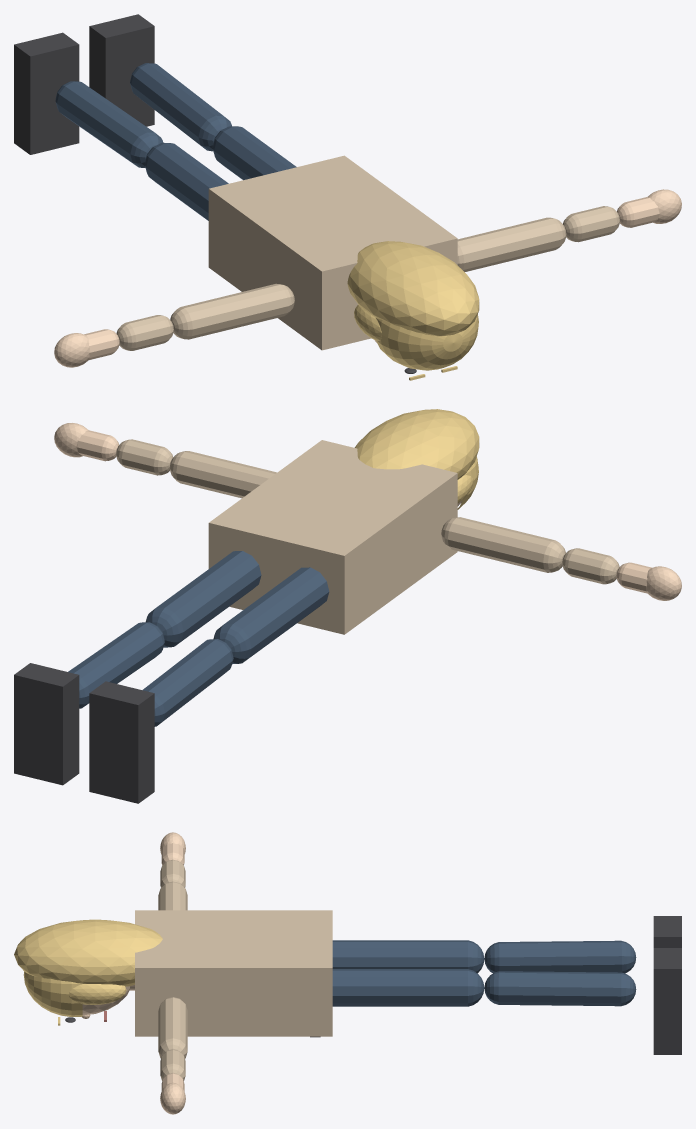
File: CHAR_AVATAR_VARIANT_002.glb
The picture shows the model from 3 angles, top to bottom: view 1: azimuth 30°, elevation 25°; view 2: azimuth 150°, elevation 25°; view 3: azimuth 270°, elevation 25°; orthographic projection. The views are drawn at different scales.
Visible parts, largest first — view 1: CHAR_AVATAR_VARIANT_002_torso_jacket, CHAR_AVATAR_VARIANT_002_back_hair, CHAR_AVATAR_VARIANT_002_shoe_L, CHAR_AVATAR_VARIANT_002_shoe_R, CHAR_AVATAR_VARIANT_002_shin_L, CHAR_AVATAR_VARIANT_002_upper_arm_L, CHAR_AVATAR_VARIANT_002_shin_R, CHAR_AVATAR_VARIANT_002_upper_arm_R, CHAR_AVATAR_VARIANT_002_hair_cap, CHAR_AVATAR_VARIANT_002_thigh_L, CHAR_AVATAR_VARIANT_002_thigh_R, CHAR_AVATAR_VARIANT_002_forearm_L (+6 smaller); view 2: CHAR_AVATAR_VARIANT_002_torso_jacket, CHAR_AVATAR_VARIANT_002_shoe_L, CHAR_AVATAR_VARIANT_002_shoe_R, CHAR_AVATAR_VARIANT_002_back_hair, CHAR_AVATAR_VARIANT_002_thigh_R, CHAR_AVATAR_VARIANT_002_thigh_L, CHAR_AVATAR_VARIANT_002_upper_arm_L, CHAR_AVATAR_VARIANT_002_shin_L, CHAR_AVATAR_VARIANT_002_shin_R, CHAR_AVATAR_VARIANT_002_upper_arm_R, CHAR_AVATAR_VARIANT_002_forearm_L, CHAR_AVATAR_VARIANT_002_forearm_R (+4 smaller); view 3: CHAR_AVATAR_VARIANT_002_torso_jacket, CHAR_AVATAR_VARIANT_002_back_hair, CHAR_AVATAR_VARIANT_002_thigh_R, CHAR_AVATAR_VARIANT_002_shin_R, CHAR_AVATAR_VARIANT_002_shin_L, CHAR_AVATAR_VARIANT_002_thigh_L, CHAR_AVATAR_VARIANT_002_shoe_R, CHAR_AVATAR_VARIANT_002_hair_cap, CHAR_AVATAR_VARIANT_002_upper_arm_R, CHAR_AVATAR_VARIANT_002_hair_side_R, CHAR_AVATAR_VARIANT_002_shoe_L, CHAR_AVATAR_VARIANT_002_upper_arm_L (+3 smaller).
Boxes of the visible parts, x1=… form: CHAR_AVATAR_VARIANT_002_torso_jacket: x1=208, y1=155, x2=457, y2=350; CHAR_AVATAR_VARIANT_002_back_hair: x1=347, y1=241, x2=479, y2=336; CHAR_AVATAR_VARIANT_002_shoe_L: x1=14, y1=32, x2=79, y2=154; CHAR_AVATAR_VARIANT_002_shoe_R: x1=89, y1=14, x2=154, y2=126; CHAR_AVATAR_VARIANT_002_shin_L: x1=55, y1=81, x2=163, y2=167; CHAR_AVATAR_VARIANT_002_upper_arm_L: x1=170, y1=283, x2=294, y2=339; CHAR_AVATAR_VARIANT_002_shin_R: x1=130, y1=63, x2=231, y2=151; CHAR_AVATAR_VARIANT_002_upper_arm_R: x1=457, y1=217, x2=566, y2=271; CHAR_AVATAR_VARIANT_002_hair_cap: x1=376, y1=314, x2=478, y2=370; CHAR_AVATAR_VARIANT_002_thigh_L: x1=144, y1=142, x2=228, y2=220; CHAR_AVATAR_VARIANT_002_thigh_R: x1=212, y1=126, x2=296, y2=180; CHAR_AVATAR_VARIANT_002_forearm_L: x1=116, y1=315, x2=173, y2=350; CHAR_AVATAR_VARIANT_002_torso_jacket: x1=208, y1=440, x2=457, y2=634; CHAR_AVATAR_VARIANT_002_shoe_L: x1=89, y1=681, x2=154, y2=803; CHAR_AVATAR_VARIANT_002_shoe_R: x1=14, y1=663, x2=79, y2=785; CHAR_AVATAR_VARIANT_002_back_hair: x1=354, y1=409, x2=479, y2=479; CHAR_AVATAR_VARIANT_002_thigh_R: x1=145, y1=551, x2=261, y2=647; CHAR_AVATAR_VARIANT_002_thigh_L: x1=213, y1=567, x2=329, y2=664; CHAR_AVATAR_VARIANT_002_upper_arm_L: x1=441, y1=517, x2=565, y2=572; CHAR_AVATAR_VARIANT_002_shin_L: x1=142, y1=639, x2=233, y2=726; CHAR_AVATAR_VARIANT_002_shin_R: x1=68, y1=622, x2=164, y2=708; CHAR_AVATAR_VARIANT_002_upper_arm_R: x1=169, y1=451, x2=276, y2=498; CHAR_AVATAR_VARIANT_002_forearm_L: x1=562, y1=548, x2=619, y2=584; CHAR_AVATAR_VARIANT_002_forearm_R: x1=116, y1=439, x2=173, y2=475; CHAR_AVATAR_VARIANT_002_torso_jacket: x1=135, y1=910, x2=332, y2=1036; CHAR_AVATAR_VARIANT_002_back_hair: x1=14, y1=919, x2=162, y2=986; CHAR_AVATAR_VARIANT_002_thigh_R: x1=332, y1=969, x2=484, y2=1006; CHAR_AVATAR_VARIANT_002_shin_R: x1=484, y1=971, x2=636, y2=1006; CHAR_AVATAR_VARIANT_002_shin_L: x1=484, y1=940, x2=636, y2=973; CHAR_AVATAR_VARIANT_002_thigh_L: x1=332, y1=940, x2=484, y2=973; CHAR_AVATAR_VARIANT_002_shoe_R: x1=653, y1=948, x2=681, y2=1054; CHAR_AVATAR_VARIANT_002_hair_cap: x1=23, y1=971, x2=82, y2=1016; CHAR_AVATAR_VARIANT_002_upper_arm_R: x1=158, y1=997, x2=187, y2=1058; CHAR_AVATAR_VARIANT_002_hair_side_R: x1=69, y1=984, x2=126, y2=1004; CHAR_AVATAR_VARIANT_002_shoe_L: x1=653, y1=916, x2=681, y2=947; CHAR_AVATAR_VARIANT_002_upper_arm_L: x1=158, y1=881, x2=187, y2=910.
Bounding box in the file's own units: 1.58 × 0.2836 × 1.68.
